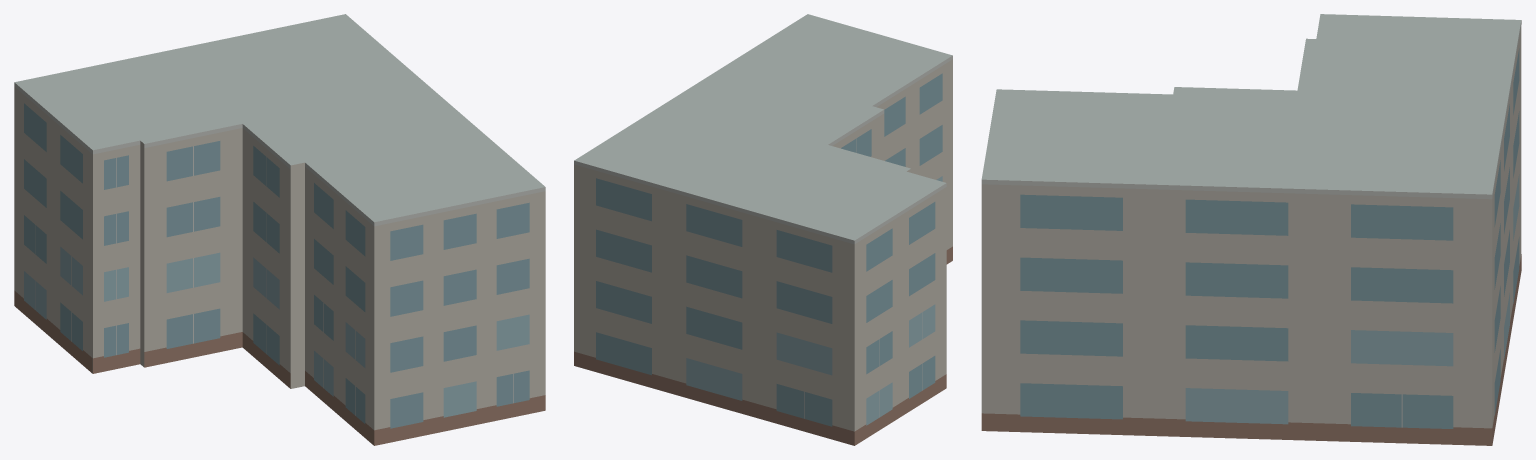
The model's file is survey-upis-32887911.glb.
3 renders of one model, left to right at view 1: azimuth 30°, elevation 25°; view 2: azimuth 150°, elevation 25°; view 3: azimuth 270°, elevation 25°, orthographic. The views are drawn at different scales.
Visible parts, largest first — view 1: survey-upis-32887911.tmp; view 2: survey-upis-32887911.tmp; view 3: survey-upis-32887911.tmp.
Part boxes in pixels (x1,y1,x2,y2): survey-upis-32887911.tmp: (14, 14, 545, 445); survey-upis-32887911.tmp: (574, 14, 952, 445); survey-upis-32887911.tmp: (981, 14, 1521, 445).
Bounding box in the file's own units: 20.36 × 13.2 × 25.71.
